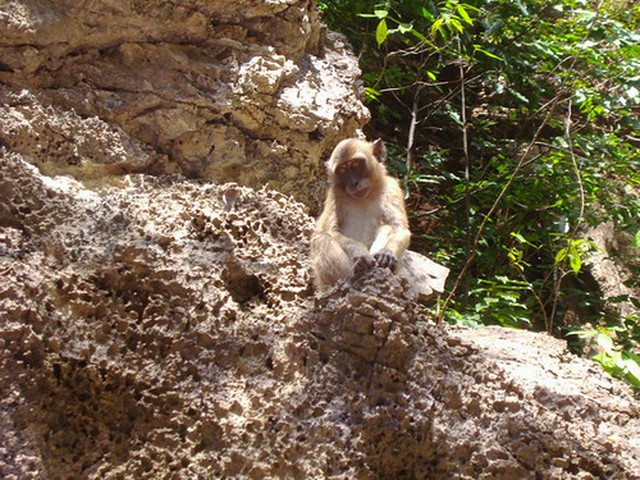Monkey: (310, 137, 416, 291)
